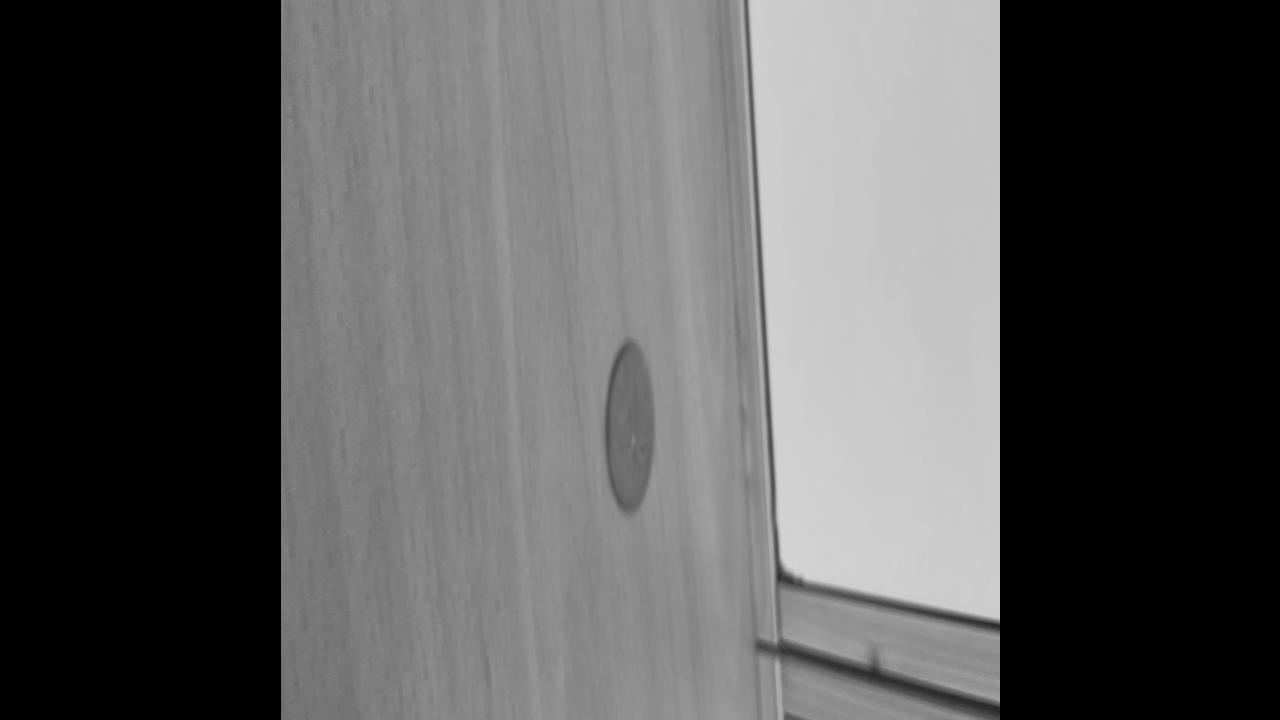coin: (603, 334, 657, 520)
